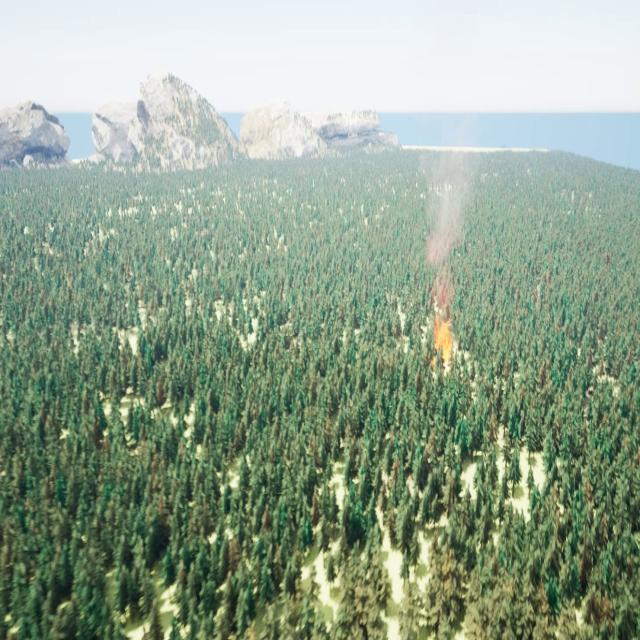fire: (426, 313, 454, 363)
smoke: (424, 134, 478, 312)
